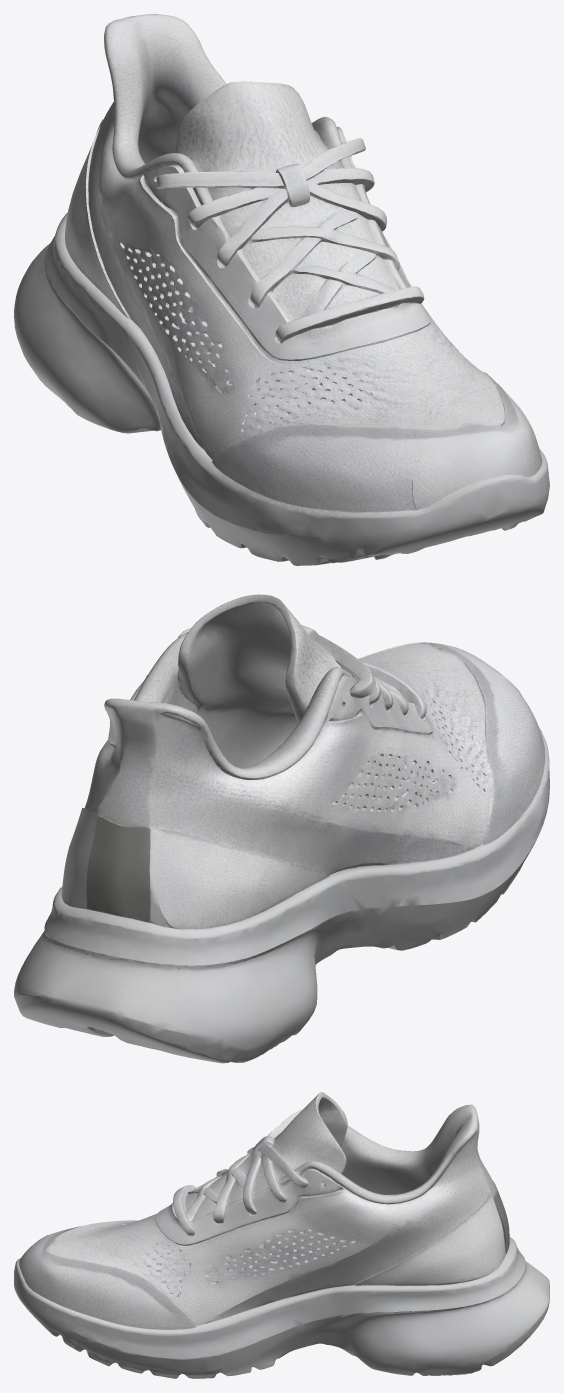
Rendered from sapatilha.glb.
3 views of the same model, one above another, from view 1: azimuth 30°, elevation 25°; view 2: azimuth 150°, elevation 25°; view 3: azimuth 270°, elevation 25° (orthographic). The views are drawn at different scales.
Visible parts, largest first — view 1: model; view 2: model; view 3: model.
Boxes of the visible parts, <box> form: model: <box>14,14,549,565</box>; model: <box>14,594,549,1063</box>; model: <box>14,1092,549,1378</box>.
Bounding box in the file's own units: 0.7469 × 0.9551 × 1.89.
Materials: 1 (1 with a texture image).
